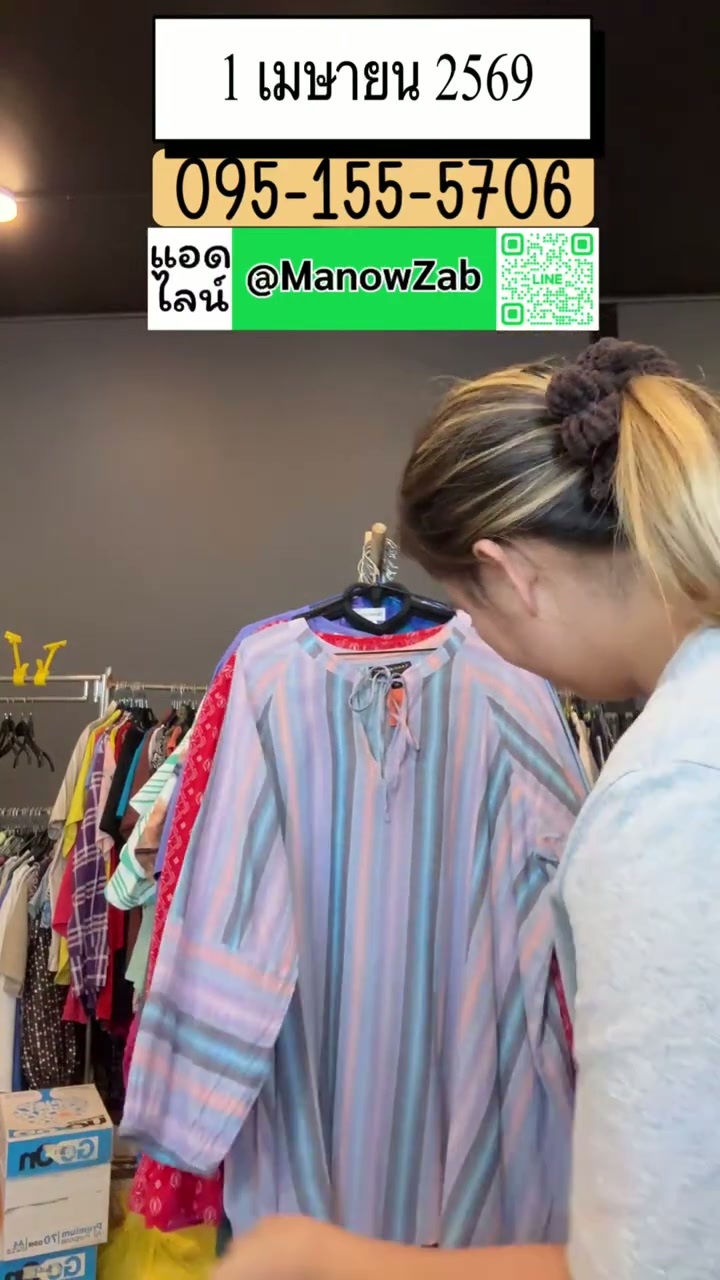display_shirt: (126, 613, 585, 1247)
